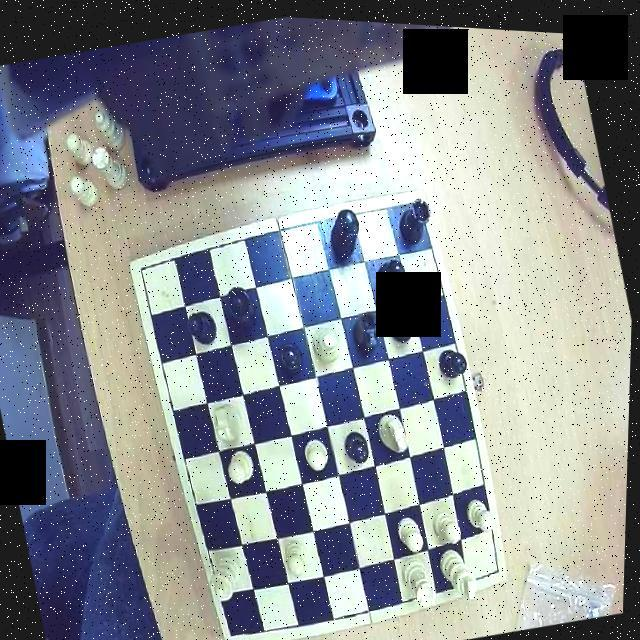chess-table-corners: (132, 252, 170, 288), (396, 187, 432, 221), (222, 609, 256, 640), (482, 546, 511, 578)
